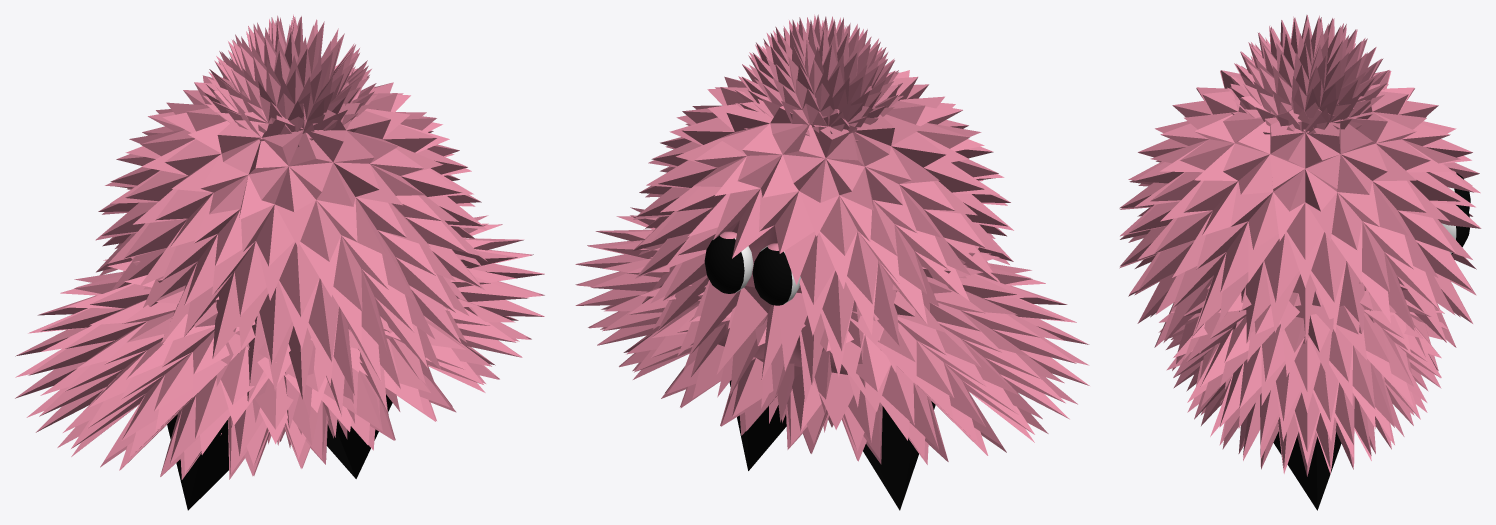
File: Pinelope.fbx
The picture shows the model from 3 angles, left to right: view 1: azimuth 30°, elevation 25°; view 2: azimuth 150°, elevation 25°; view 3: azimuth 270°, elevation 25°; orthographic projection. The views are drawn at different scales.
Parts seen in each view (by area): view 1: Icosphere; view 2: Icosphere; view 3: Icosphere.
Boxes of the visible parts, x1,y1,x2,y2 form: Icosphere: (15,14,544,510); Icosphere: (575,14,1089,510); Icosphere: (1119,15,1481,510).
Size of the model in its own units: 380 by 342 by 246.
